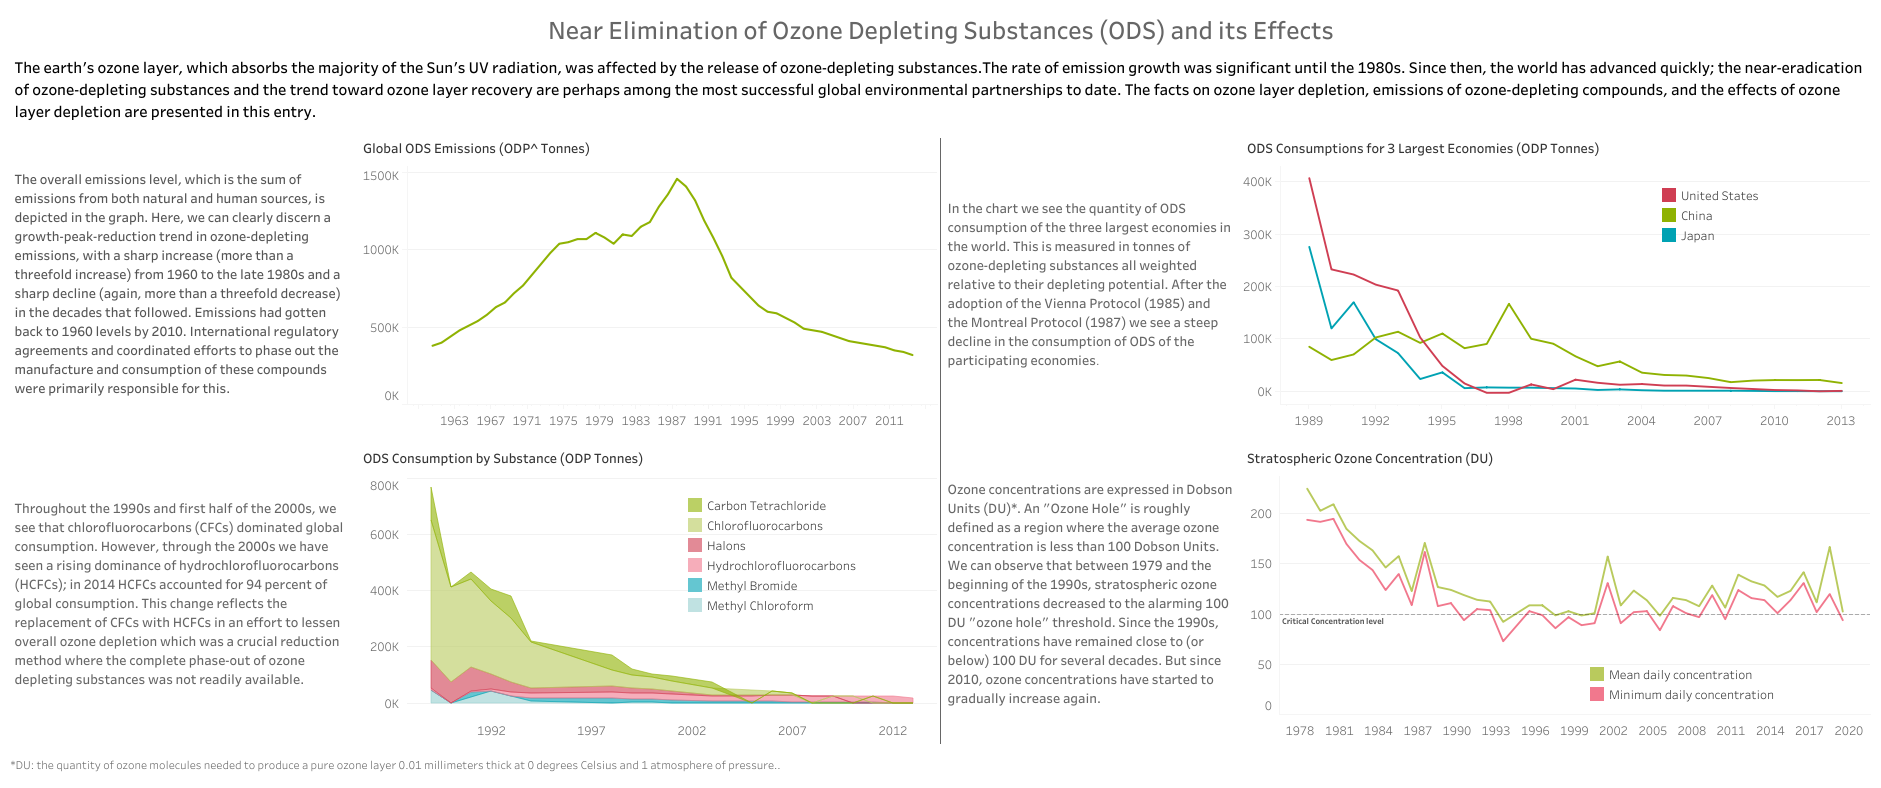

Layout of this report page (visuals, bound fields, positions):
{"tool":"tableau","page":{"name":"Dashboard","canvas":[1000,1000],"units":"permille","ordinal":0},"visuals":[{"type":"text","box":[4.7,8.8,990.6,52.7]},{"type":"text","box":[4.7,61.5,990.6,100.2]},{"type":"text","box":[4.7,161.7,184.2,393.7]},{"type":"worksheet","title":"Global ODS Emissions","mark":"Automatic","rows":["Ozone-depleting substance emissions (Scientific Assessment 2"],"cols":["Year"],"box":[188.8,161.7,311.1,393.7]},{"type":"text","box":[499.9,161.7,158.5,393.7]},{"type":"worksheet","title":"ODS Consumptions for 3 Largest Economies","mark":"Automatic","rows":["Consumption of Ozone-Depleting Substances - All"],"cols":["Year (consumption-of-ozone-depleting-substances.csv)"],"box":[658.5,161.7,336.9,393.7]},{"type":"legend","title":"ODS Consumptions for 3 Largest Economies","param":"[federated.1tz0g5513by8vs15r1syz1mqap2v].[none:Code (consumption-of-ozone-deplet","box":[881.4,234.4,104,82]},{"type":"text","box":[4.7,555.5,184.2,393.8]},{"type":"worksheet","title":"ODS Consumption by Substance","mark":"Area","rows":["Pivot Field Values"],"cols":["Year (specific_substances_consumptions.csv)"],"box":[188.8,555.5,311.1,393.8]},{"type":"text","box":[499.9,555.5,158.5,393.8]},{"type":"worksheet","title":"Stratospheric Ozone Concentration","mark":"Automatic","rows":["Mean daily concentration (NASA)","Minimum daily concentration (NASA)"],"cols":["Year (Sheet1)"],"box":[658.5,555.5,336.9,393.8]},{"type":"legend","title":"ODS Consumption by Substance","param":"[federated.1tz0g5513by8vs15r1syz1mqap2v].[none:Pivot Field Names:nk]","box":[363.8,627.6,129.6,169.3]},{"type":"legend","title":"Stratospheric Ozone Concentration","param":"[federated.1tz0g5513by8vs15r1syz1mqap2v].[:Measure Names]","box":[843.3,841.1,146.4,57.3]},{"type":"text","box":[4.7,949.3,990.6,41.9]}]}

Visuals, with their boxes on the dashboard's canvas, which has no fixed pixel size, in thousandths of its width and height (x1, y1, x2, y2). These are canvas units, not pixel positions in the 1881x788 screenshot, which may show the page scaled, cropped or inside an application window:
text: box=[5, 9, 995, 62]
text: box=[5, 62, 995, 162]
text: box=[5, 162, 189, 555]
"Global ODS Emissions" worksheet: box=[189, 162, 500, 555]
text: box=[500, 162, 658, 555]
"ODS Consumptions for 3 Largest Economies" worksheet: box=[658, 162, 995, 555]
"ODS Consumptions for 3 Largest Economies" legend: box=[881, 234, 985, 316]
text: box=[5, 556, 189, 949]
"ODS Consumption by Substance" worksheet (Area marks): box=[189, 556, 500, 949]
text: box=[500, 556, 658, 949]
"Stratospheric Ozone Concentration" worksheet: box=[658, 556, 995, 949]
"ODS Consumption by Substance" legend: box=[364, 628, 493, 797]
"Stratospheric Ozone Concentration" legend: box=[843, 841, 990, 898]
text: box=[5, 949, 995, 991]
